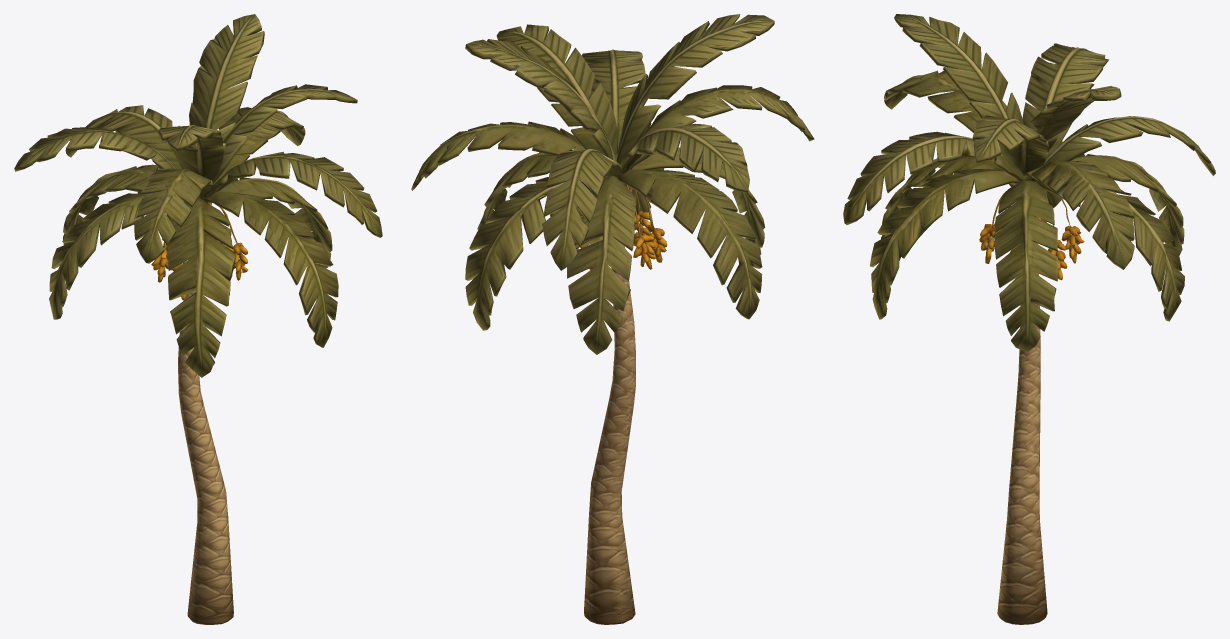
Rendered from Palmier.glb.
3 views of the same model, side by side, from view 1: azimuth 30°, elevation 25°; view 2: azimuth 150°, elevation 25°; view 3: azimuth 270°, elevation 25° (orthographic). The views are drawn at different scales.
Bounding box in the file's own units: 0.5464 × 0.9521 × 0.5688.
1 material, 1 textured.
